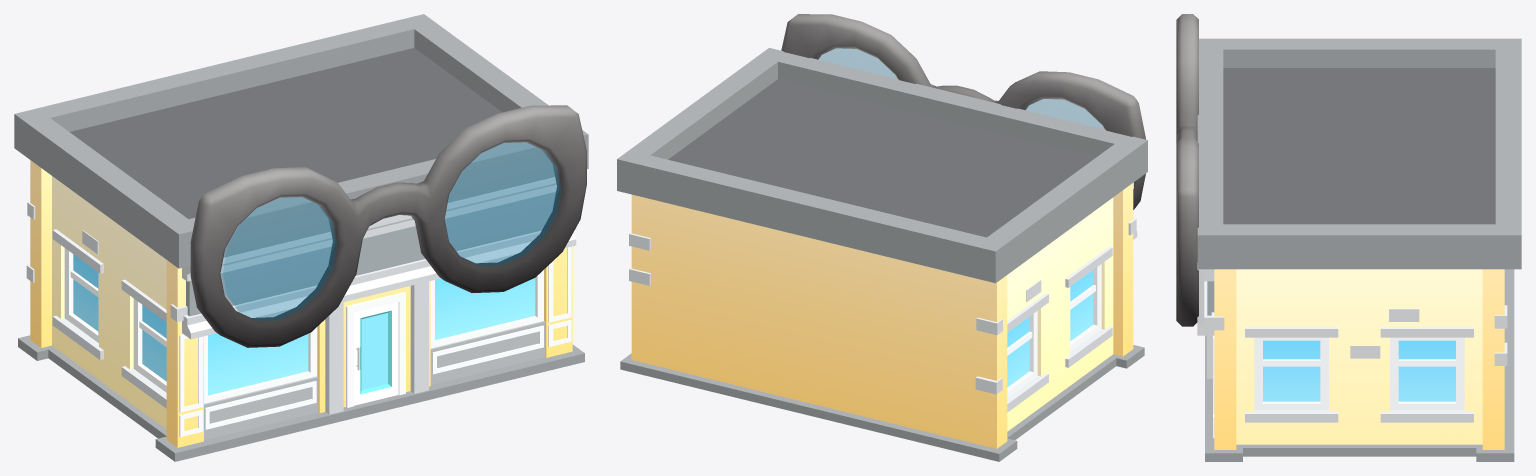
The model's file is Building_Service_05.glb.
The picture shows the model from 3 angles, left to right: view 1: azimuth 30°, elevation 25°; view 2: azimuth 150°, elevation 25°; view 3: azimuth 270°, elevation 25°; orthographic projection. The views are drawn at different scales.
Parts seen in each view (by area): view 1: Building_Service_05; view 2: Building_Service_05; view 3: Building_Service_05.
Part boxes in pixels (box(x1,y1,x2,y2)): Building_Service_05: box(14, 14, 588, 461); Building_Service_05: box(617, 14, 1147, 461); Building_Service_05: box(1176, 14, 1521, 461).
Bounding box in the file's own units: 9.86 × 6.33 × 7.31.
2 materials, 2 textured.
